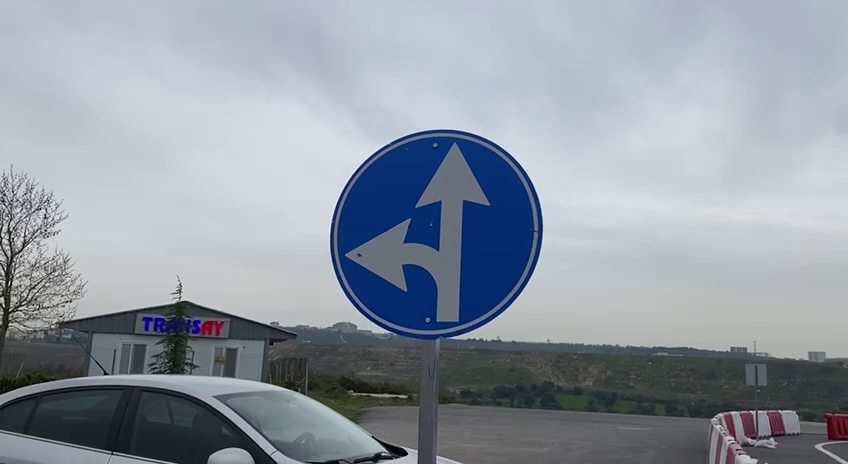forwardAndLeft: (321, 121, 550, 345)
